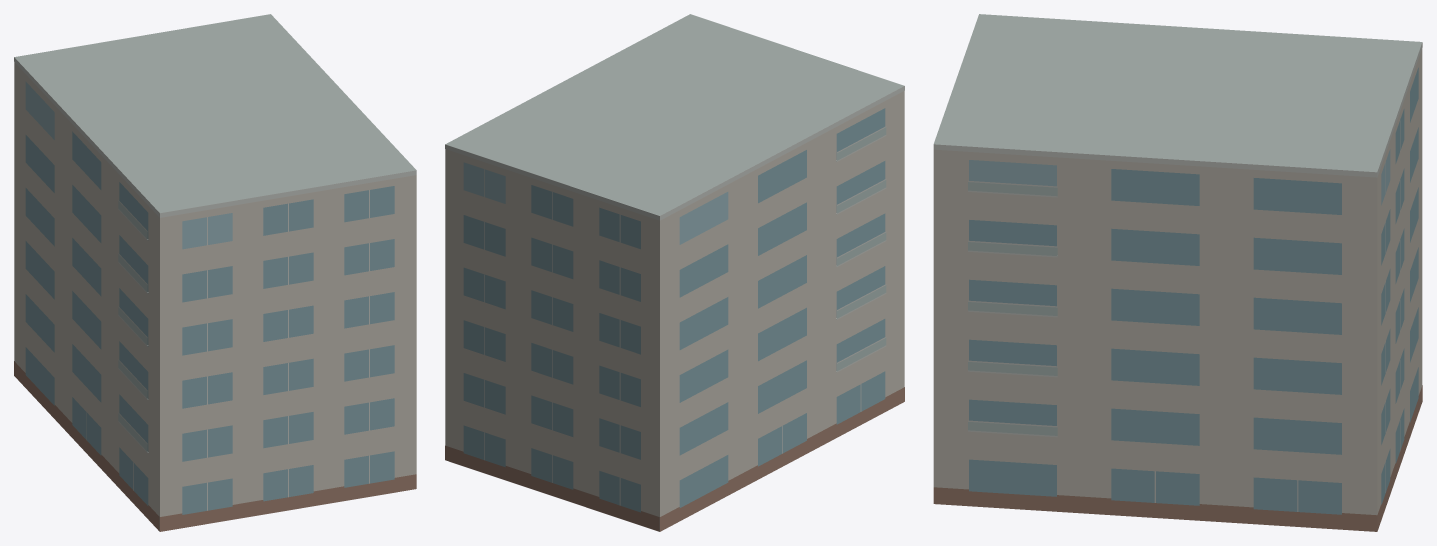
File: survey-upis-32743423.glb
The picture shows the model from 3 angles, left to right: view 1: azimuth 30°, elevation 25°; view 2: azimuth 150°, elevation 25°; view 3: azimuth 270°, elevation 25°; orthographic projection. The views are drawn at different scales.
Visible parts, largest first — view 1: survey-upis-32743423.tmp; view 2: survey-upis-32743423.tmp; view 3: survey-upis-32743423.tmp.
Part boxes in pixels (box(x1,y1,x2,y2)): survey-upis-32743423.tmp: box(14, 14, 416, 531); survey-upis-32743423.tmp: box(445, 14, 904, 531); survey-upis-32743423.tmp: box(933, 14, 1422, 531).
Bounding box in the file's own units: 15.68 × 16.6 × 20.47.
